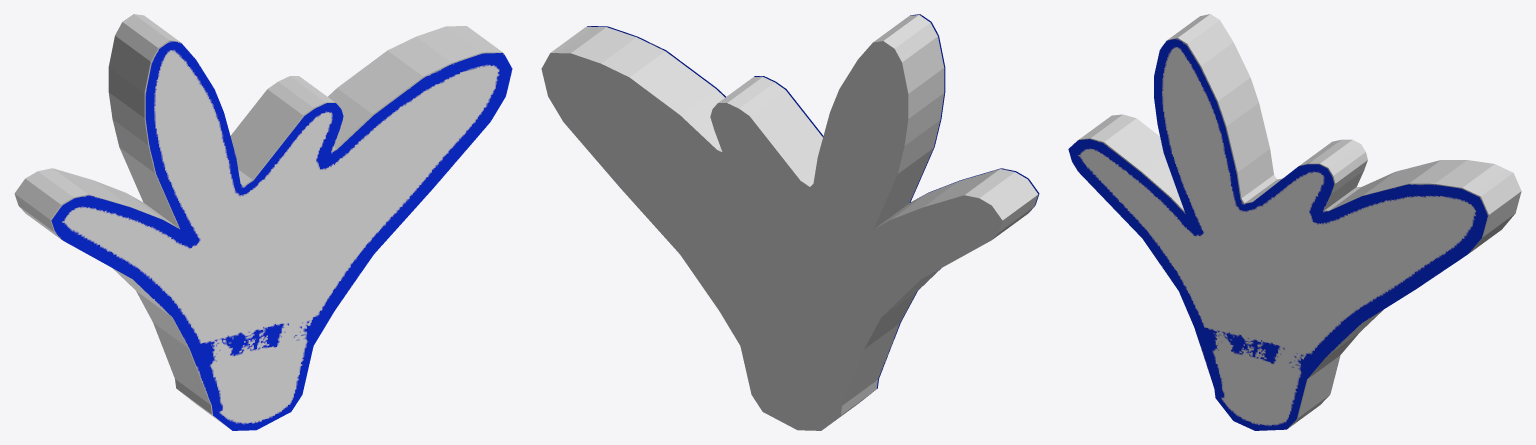
3 views of the same model, side by side, from view 1: azimuth 30°, elevation 25°; view 2: azimuth 150°, elevation 25°; view 3: azimuth 330°, elevation 25° (orthographic). The views are drawn at different scales.
Parts seen in each view (by area): view 1: In_3_1, In_3_0; view 2: In_3_0, In_3_1; view 3: In_3_1, In_3_0.
Boxes of the visible parts, bbox=[...] form: In_3_1: bbox=[51, 41, 512, 430]; In_3_0: bbox=[14, 14, 502, 428]; In_3_0: bbox=[541, 15, 1038, 430]; In_3_1: bbox=[587, 14, 1039, 388]; In_3_1: bbox=[1068, 38, 1487, 430]; In_3_0: bbox=[1079, 14, 1521, 428].
Size of the model in its own units: 3.71 by 3.16 by 0.515.
2 materials, 1 textured.
